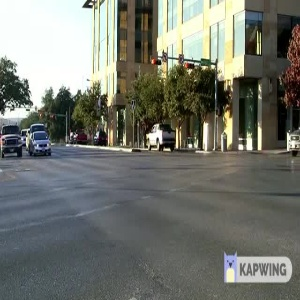car: (27, 131, 58, 159)
truck: (1, 120, 28, 157), (144, 121, 178, 148)
